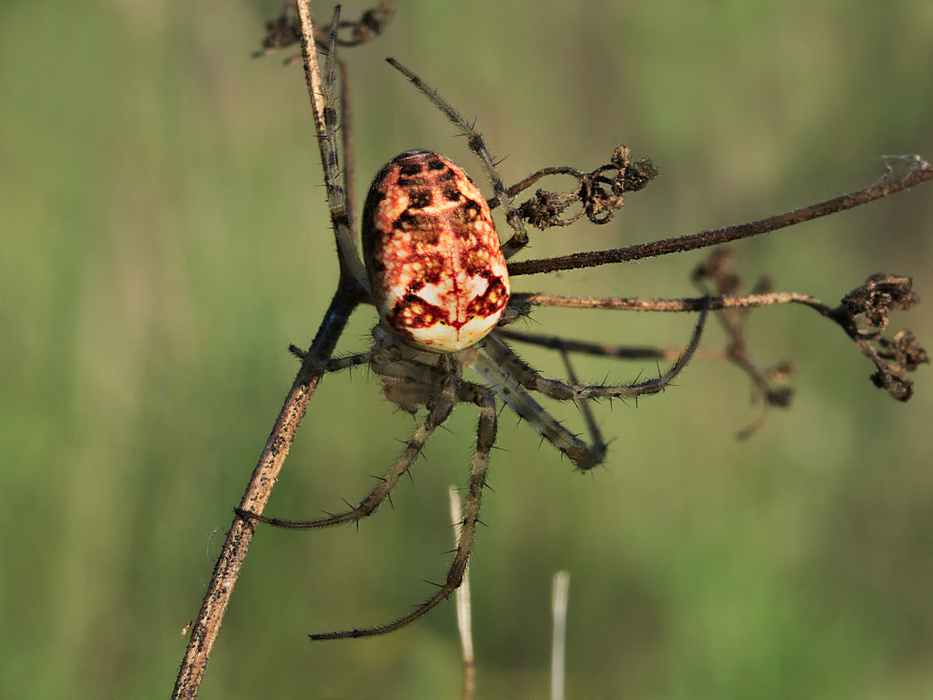spider: (204, 15, 753, 667)
